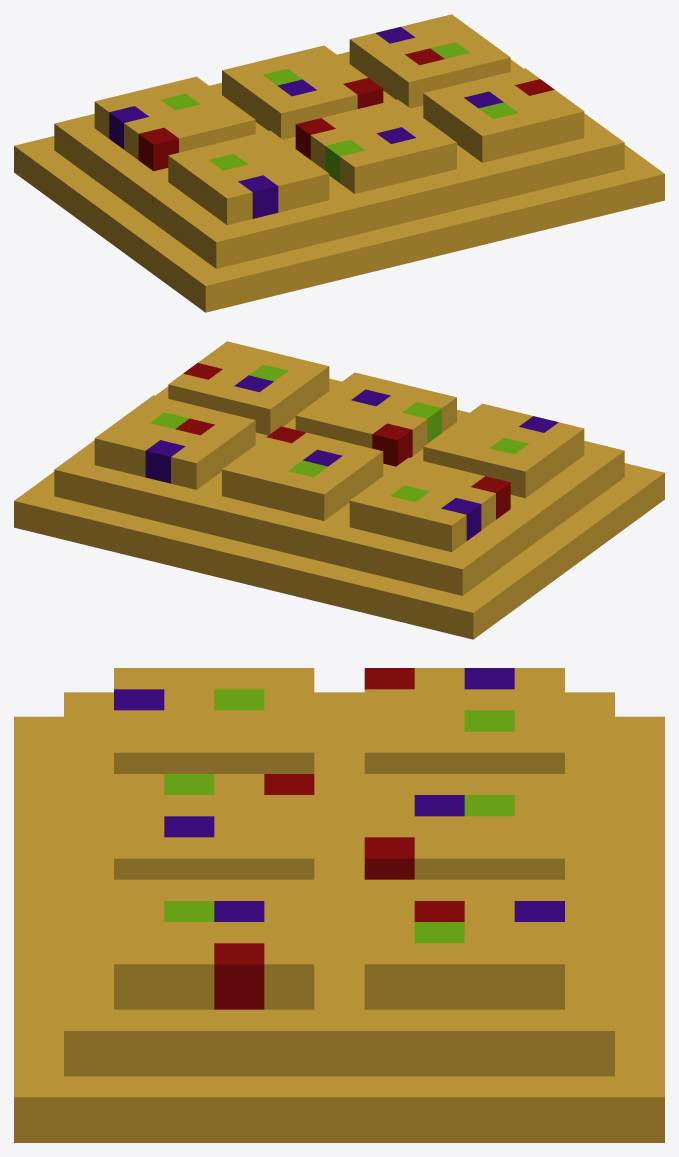
File: Gold 1.fbx
3 renders of one model, top to bottom at view 1: azimuth 30°, elevation 25°; view 2: azimuth 150°, elevation 25°; view 3: azimuth 270°, elevation 25°, orthographic. The views are drawn at different scales.
Parts seen in each view (by area): view 1: Gold; view 2: Gold; view 3: Gold.
Part boxes in pixels (box(x1,y1,x2,y2)): Gold: box(14, 14, 664, 312); Gold: box(14, 341, 664, 639); Gold: box(14, 668, 664, 1142).
Size of the model in its own units: 18 by 3 by 13.
